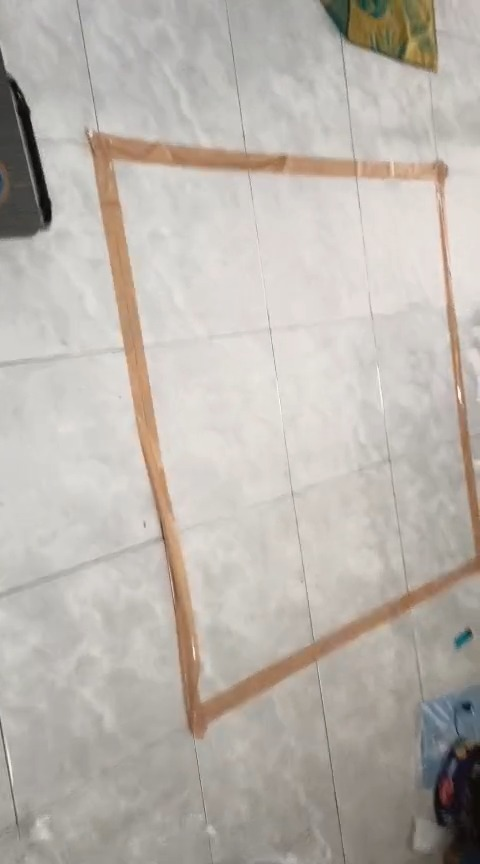floor marking: (88, 132, 479, 736)
